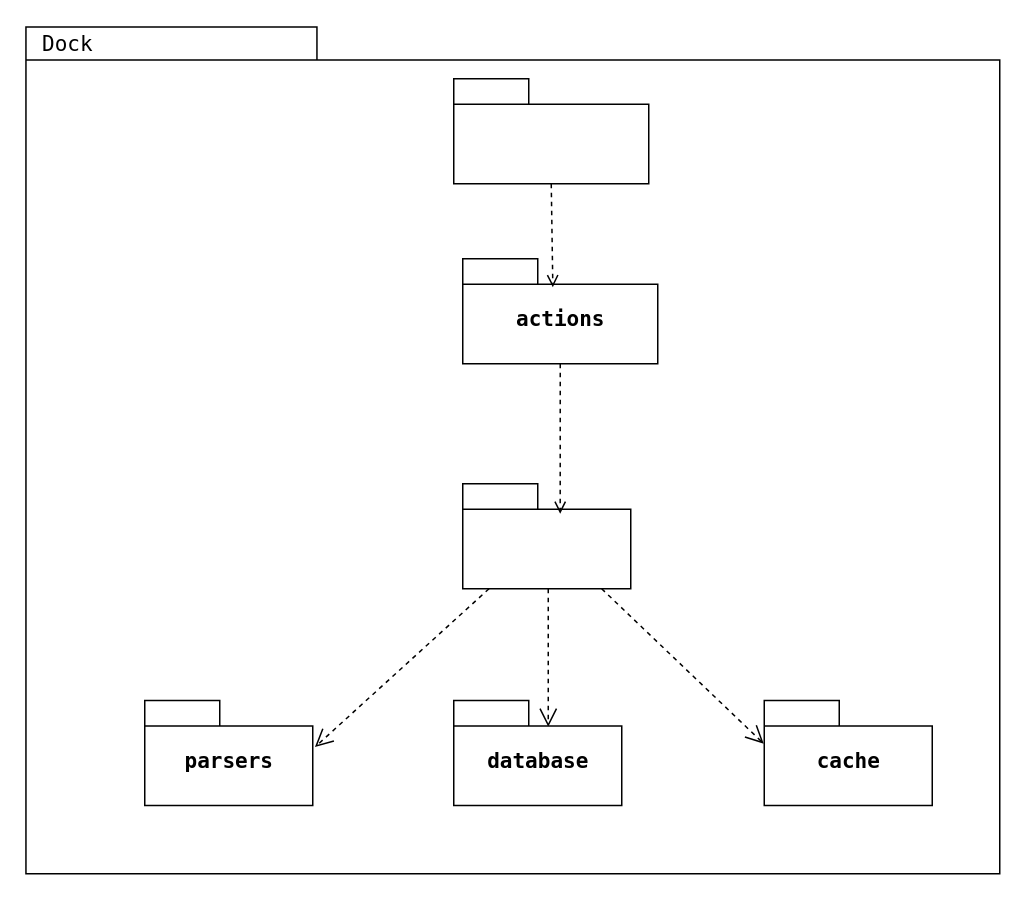
Some shapes in this 1028 by 900 pixel diagram are drawn without their labels. Here are the shapes that lost their labels. From the top down, the box of each, then its label:
(452, 77, 649, 184): server
(461, 482, 631, 589): services
